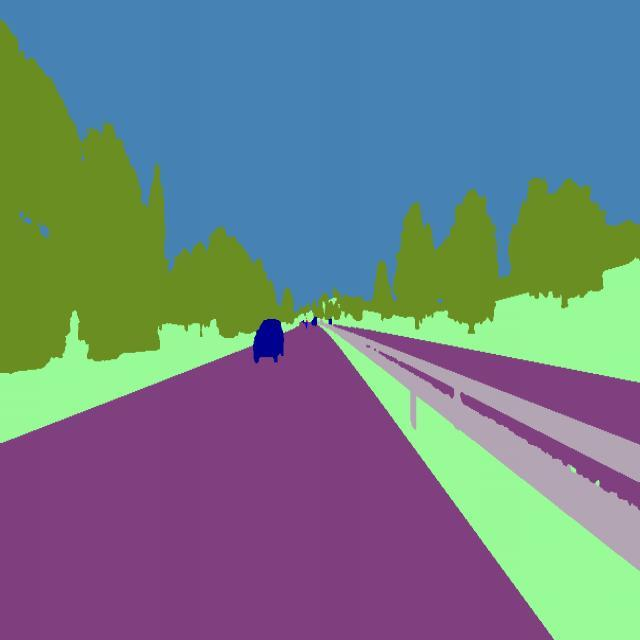safe: (250, 314, 288, 366), (310, 316, 321, 330)
